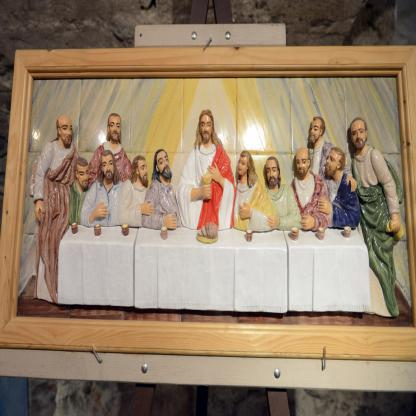Picture-frame: (1, 48, 416, 362)
